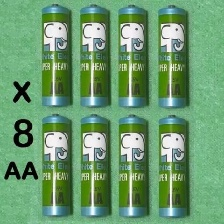battery: (38, 109, 74, 219), (155, 112, 191, 220), (38, 1, 74, 108), (77, 111, 112, 219), (155, 2, 189, 110), (77, 1, 111, 109), (116, 113, 150, 220), (114, 2, 147, 110)
